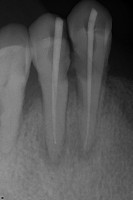Furcation Involvement: (39, 123, 67, 168), (68, 121, 98, 163)
